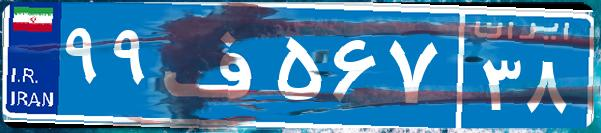3: (475, 38, 525, 113)
5: (273, 28, 330, 110)
6: (330, 28, 385, 110)
7: (385, 28, 445, 110)
8: (525, 38, 570, 115)
9: (57, 26, 110, 107), (110, 28, 158, 105)
ف: (158, 15, 273, 115)
